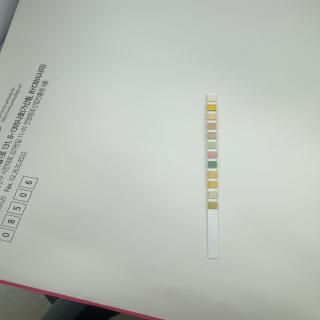mark: (208, 201, 218, 210), (208, 191, 218, 199), (207, 104, 216, 111), (207, 95, 216, 102), (208, 161, 217, 168), (208, 181, 217, 188), (208, 171, 217, 178), (208, 132, 216, 139), (207, 114, 216, 120), (208, 152, 217, 158), (208, 123, 216, 129), (208, 142, 216, 148)
